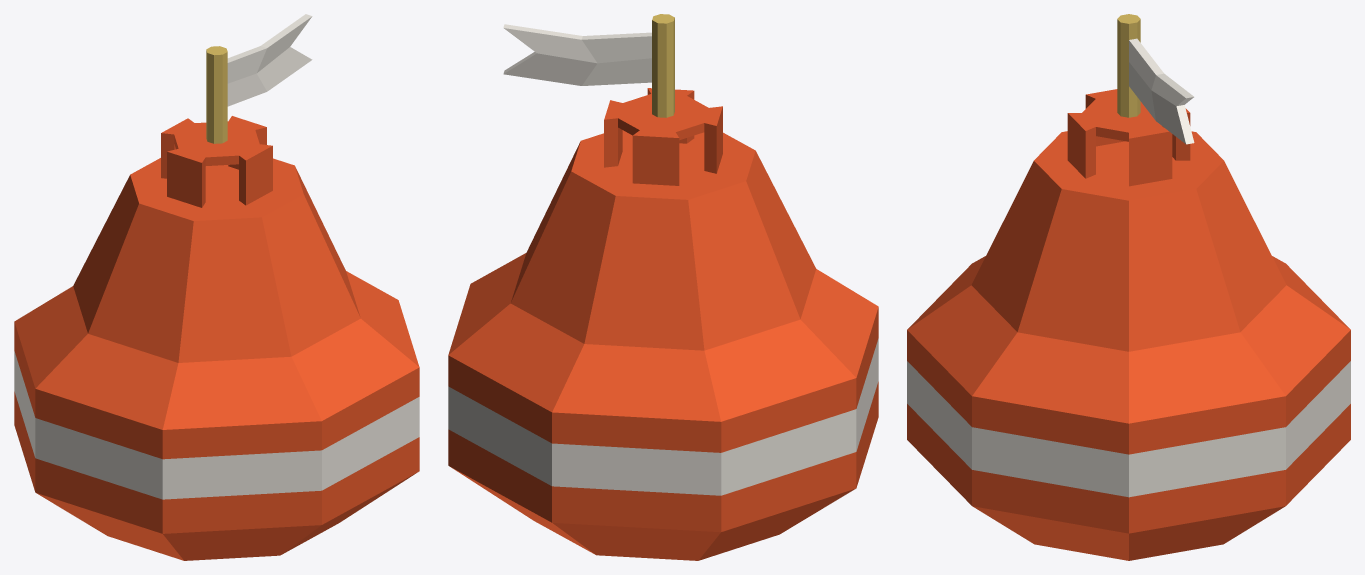
File: Boya.FBX
3 renders of one model, left to right at view 1: azimuth 30°, elevation 25°; view 2: azimuth 150°, elevation 25°; view 3: azimuth 270°, elevation 25°, orthographic. The views are drawn at different scales.
Parts seen in each view (by area): view 1: Cylinder001; view 2: Cylinder001; view 3: Cylinder001.
Boxes of the visible parts, box(x1,y1,x2,y2) form: Cylinder001: box(14, 14, 419, 560); Cylinder001: box(448, 14, 878, 560); Cylinder001: box(907, 14, 1350, 560).
Size of the model in its own units: 36.83 by 44.44 by 36.83.
